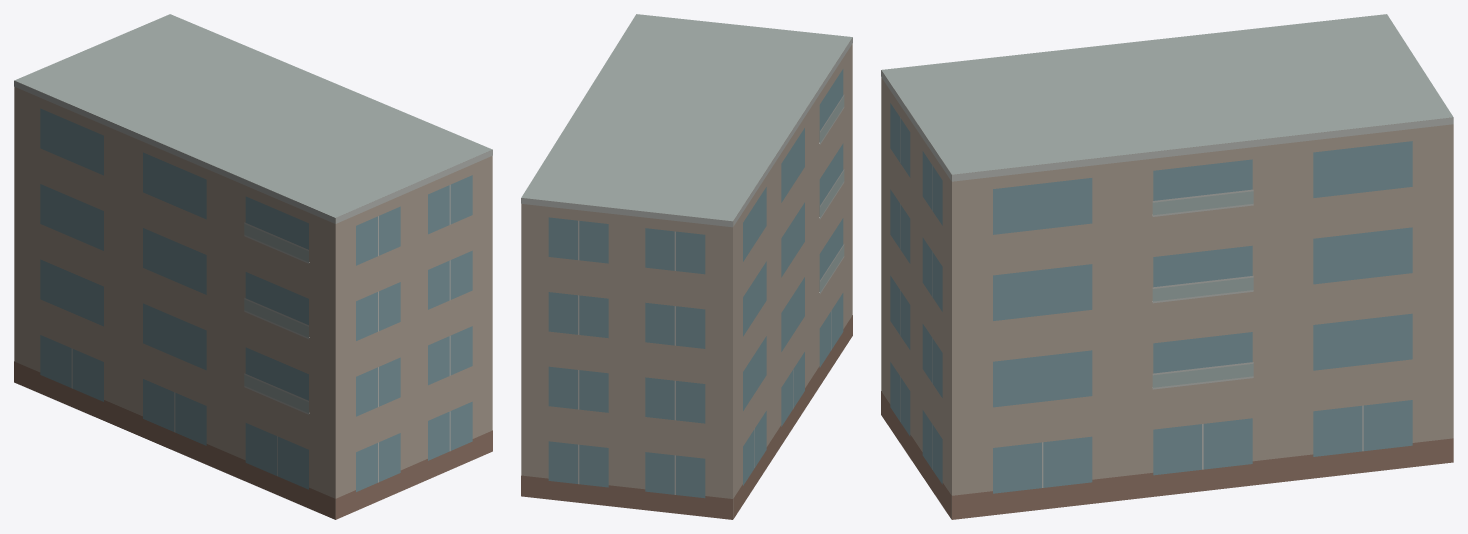
The model's file is survey-upis-32525095.glb.
3 views of the same model, side by side, from view 1: azimuth 30°, elevation 25°; view 2: azimuth 150°, elevation 25°; view 3: azimuth 270°, elevation 25° (orthographic). The views are drawn at different scales.
Visible parts, largest first — view 1: survey-upis-32525095.tmp; view 2: survey-upis-32525095.tmp; view 3: survey-upis-32525095.tmp.
Part boxes in pixels (bbox=[...]): survey-upis-32525095.tmp: bbox=[14, 14, 492, 519]; survey-upis-32525095.tmp: bbox=[521, 14, 852, 519]; survey-upis-32525095.tmp: bbox=[881, 14, 1453, 519].
Bounding box in the file's own units: 12.09 × 12.09 × 18.18.
